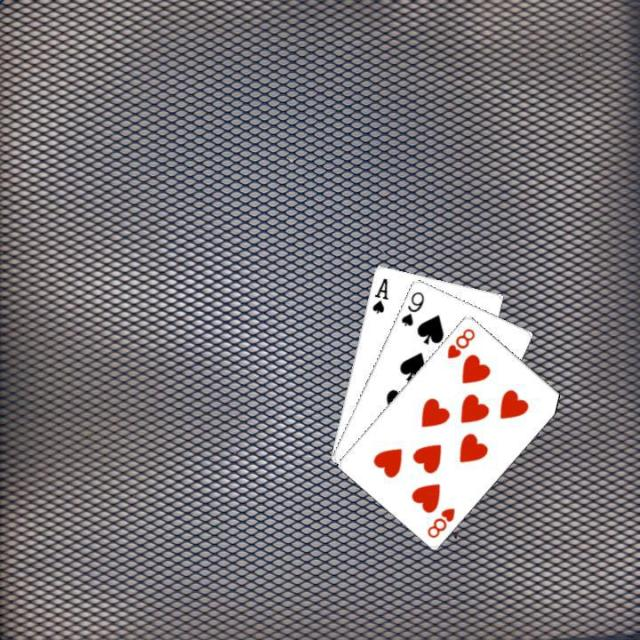8H: (423, 503, 457, 540), (443, 324, 477, 360)
9S: (397, 287, 426, 328)
AS: (368, 274, 390, 314)
